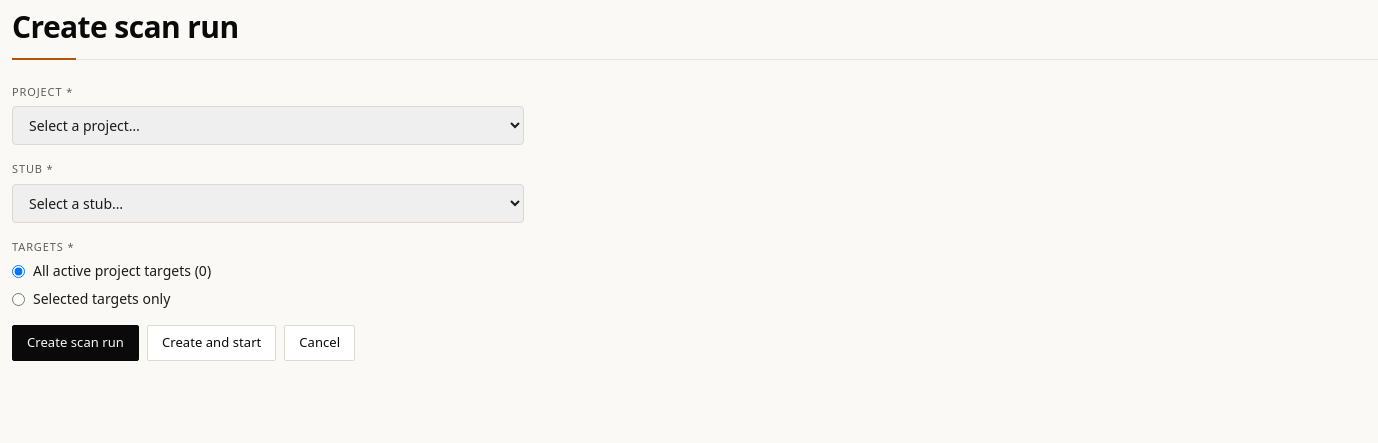
CreateScanRun — server errors flow through applyParsedError › renders backend-unreachable on network failure of create
Select "Local Lab" in the dropdown labelled "Project *" at (268,126), box [12,106,524,145]
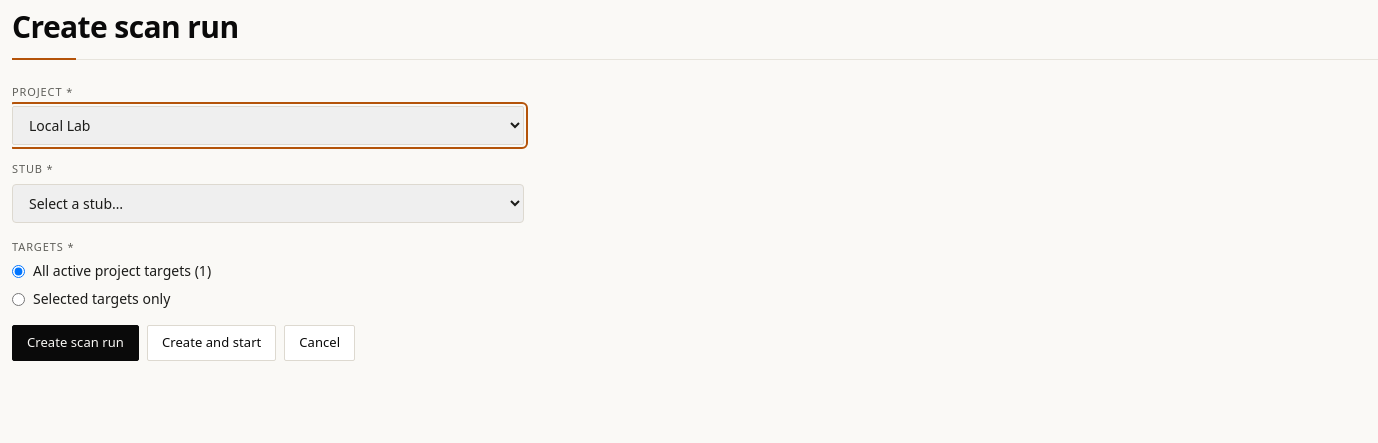
Select "1.1 · Framework detection" in the dropdown labelled "Stub *" at (268,203), box [12,184,524,222]
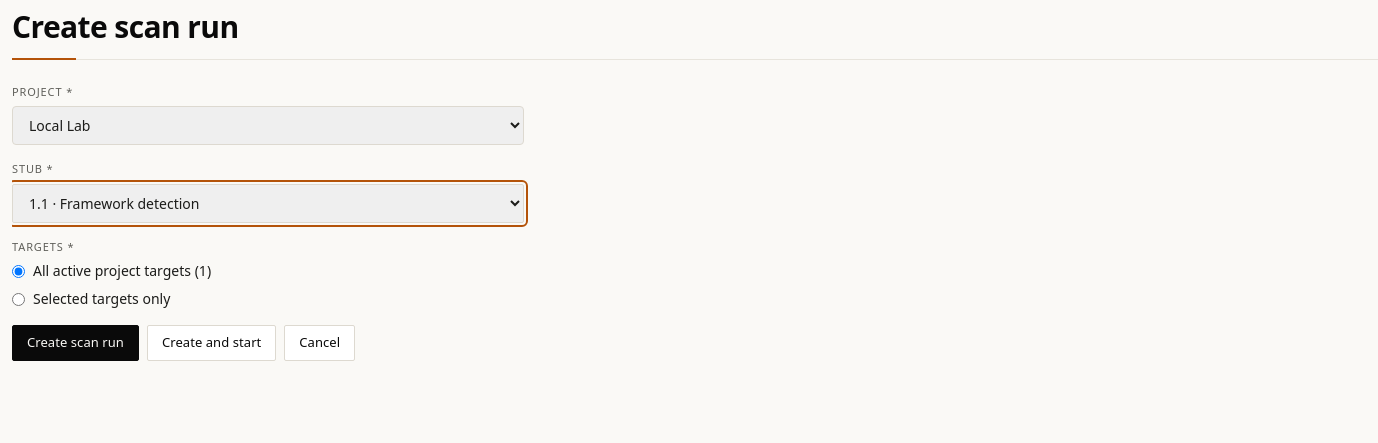
Click the button "Create scan run".
click(76, 343)  # box [12,325,139,361]
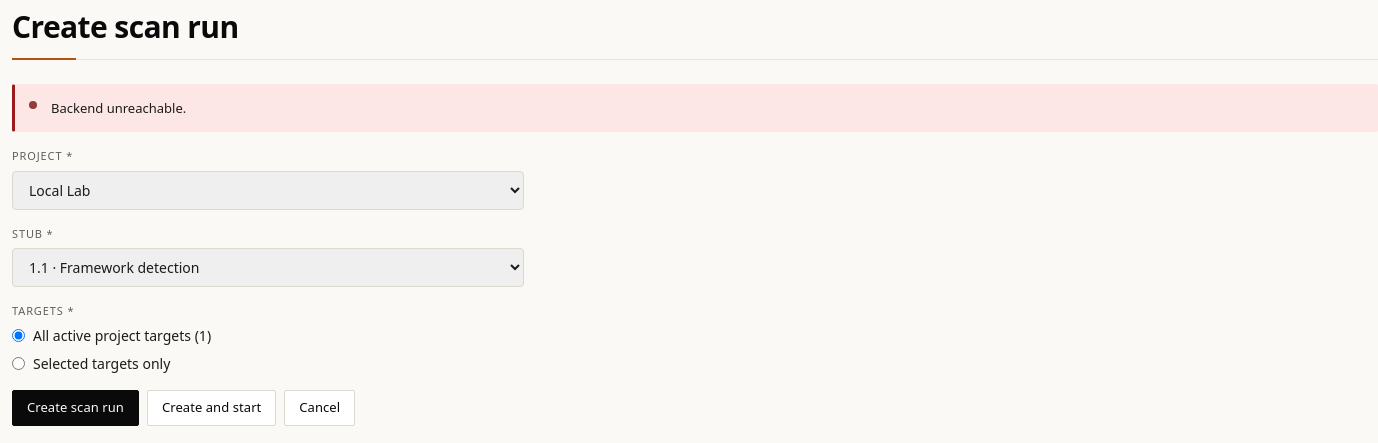
Now the text "Backend unreachable." is shown, box [51,98,186,116]
